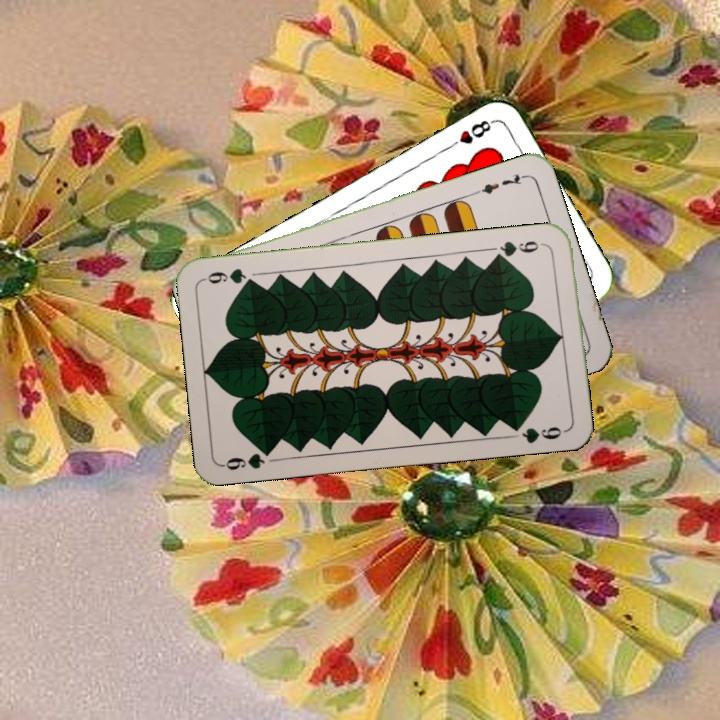E7: (472, 169, 529, 197)
G9: (219, 444, 277, 473), (490, 236, 548, 262)
H8: (443, 115, 497, 152)
